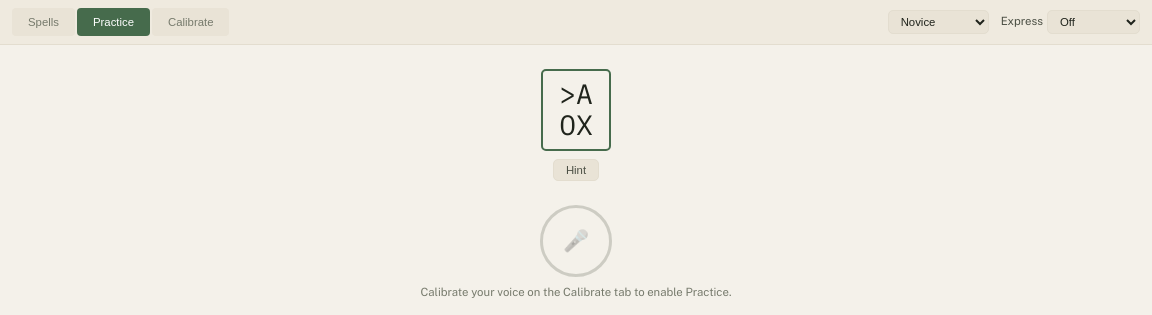
SpellbookMode › switches to Spells tab on click
What coordinates should you click on to do the following:
click the tab "Spells"
I would click on:
 (44, 22)
Its box is [12,8,75,36].
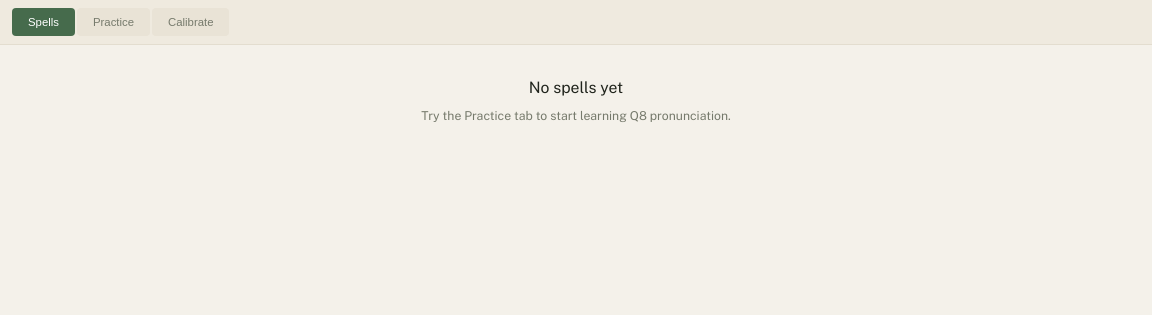
Result: the text "No spells yet" is shown at [529,77,623,99]
